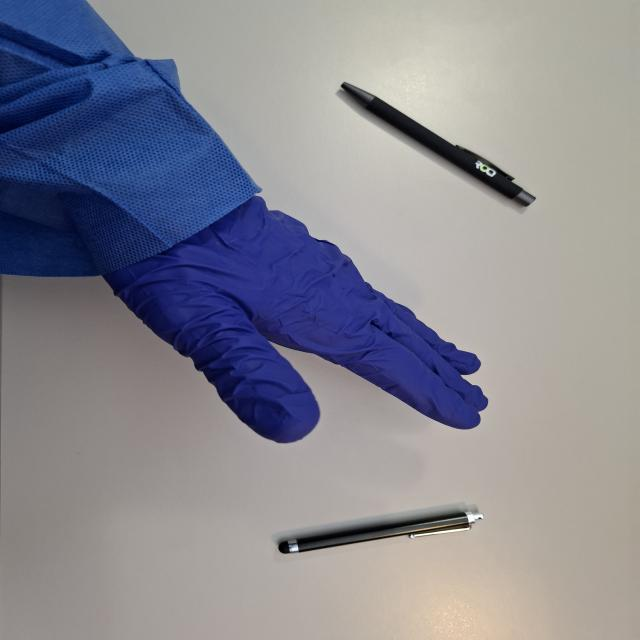glove_on: (90, 192, 492, 445)
